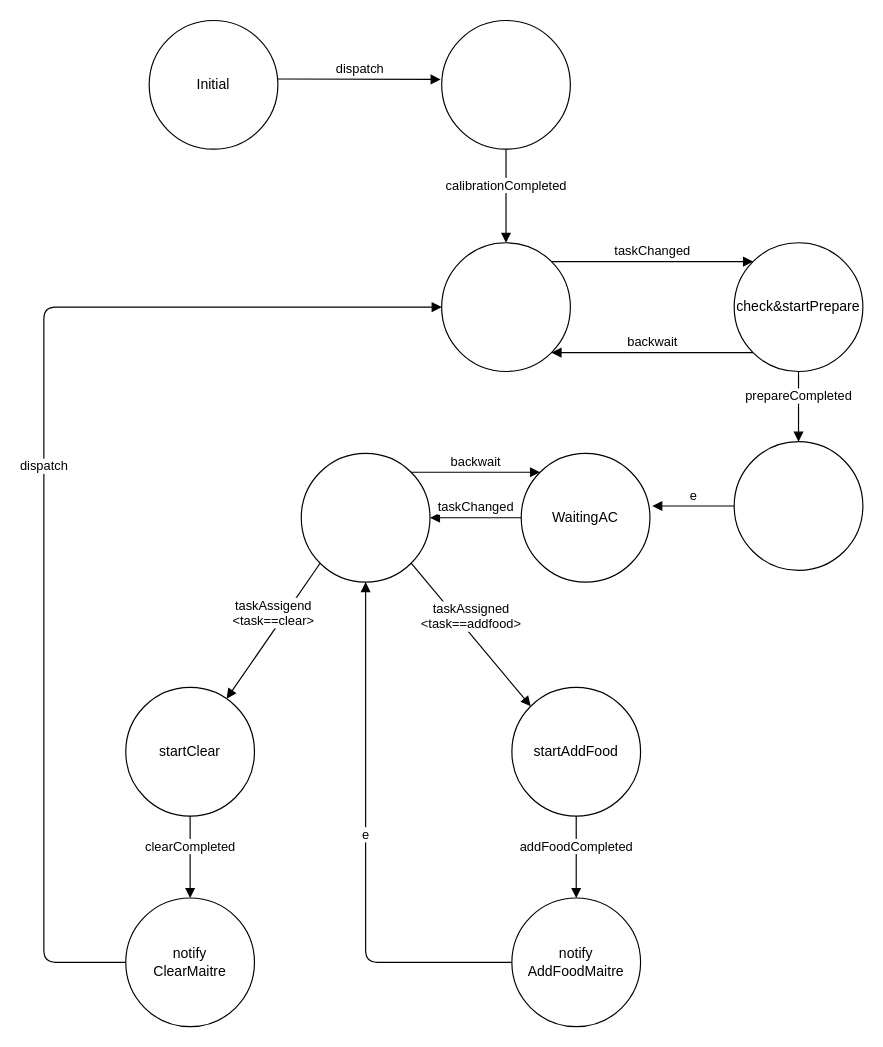
Image size: 883x1047. Some labels were removed from this diagram. The shapes that lost their labels are listed below. From the top down, each one's centre as x and y in pixels, then its label:
point 505,84: WaitingCalibration
point 505,306: waitingPrepare
point 365,517: check&startAC
point 798,505: notify PrepareMaitre
